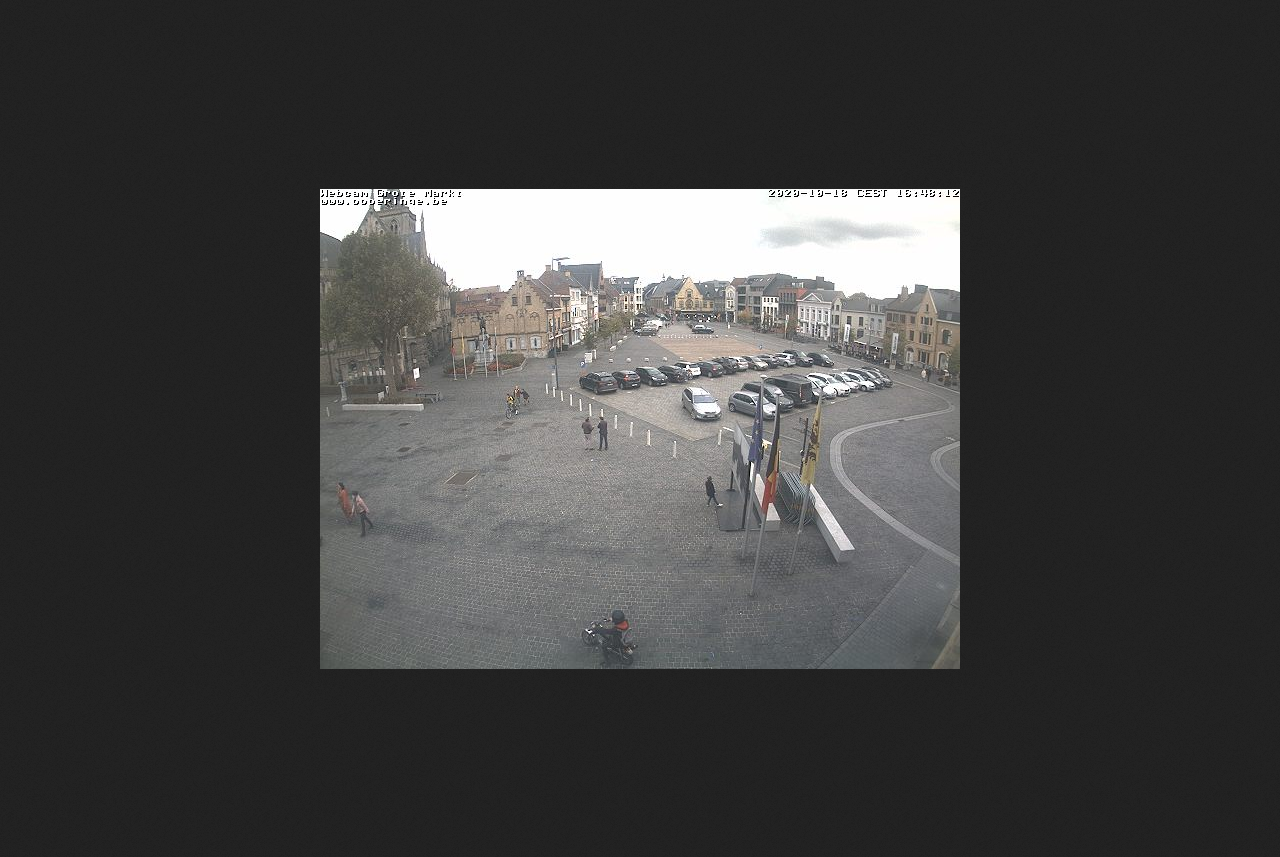no: (761, 402, 787, 510), (801, 400, 821, 489), (745, 391, 766, 475), (457, 330, 469, 355), (478, 330, 488, 355), (447, 333, 457, 355), (494, 332, 501, 354)
